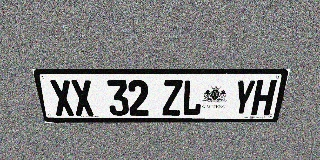2: (128, 80, 149, 116)
3: (107, 80, 129, 116)
H: (251, 80, 277, 115)
L: (182, 80, 203, 116)
X: (49, 80, 75, 116), (70, 80, 95, 116)
Y: (231, 80, 257, 115)
Z: (162, 80, 183, 116)
